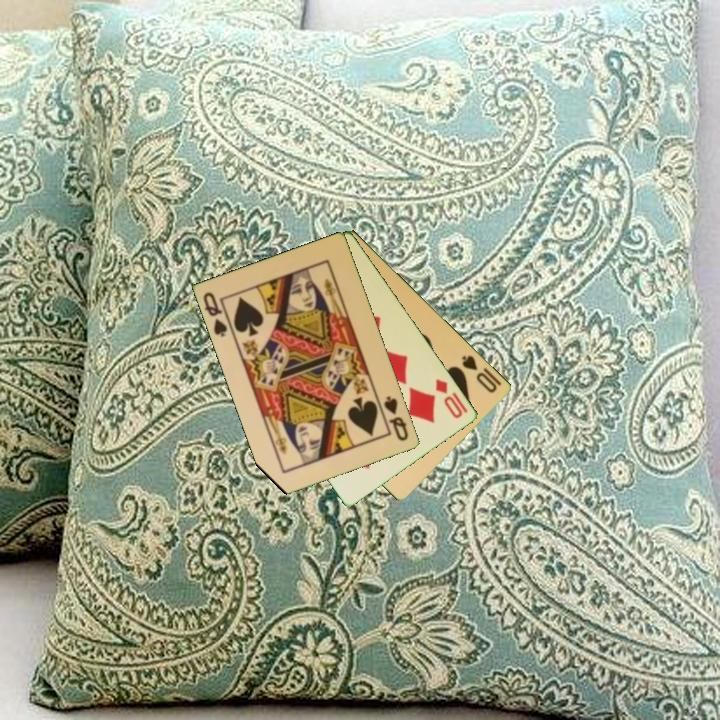10d: (432, 375, 466, 422)
10s: (459, 352, 500, 396)
Qs: (381, 392, 412, 444), (200, 289, 231, 340)
